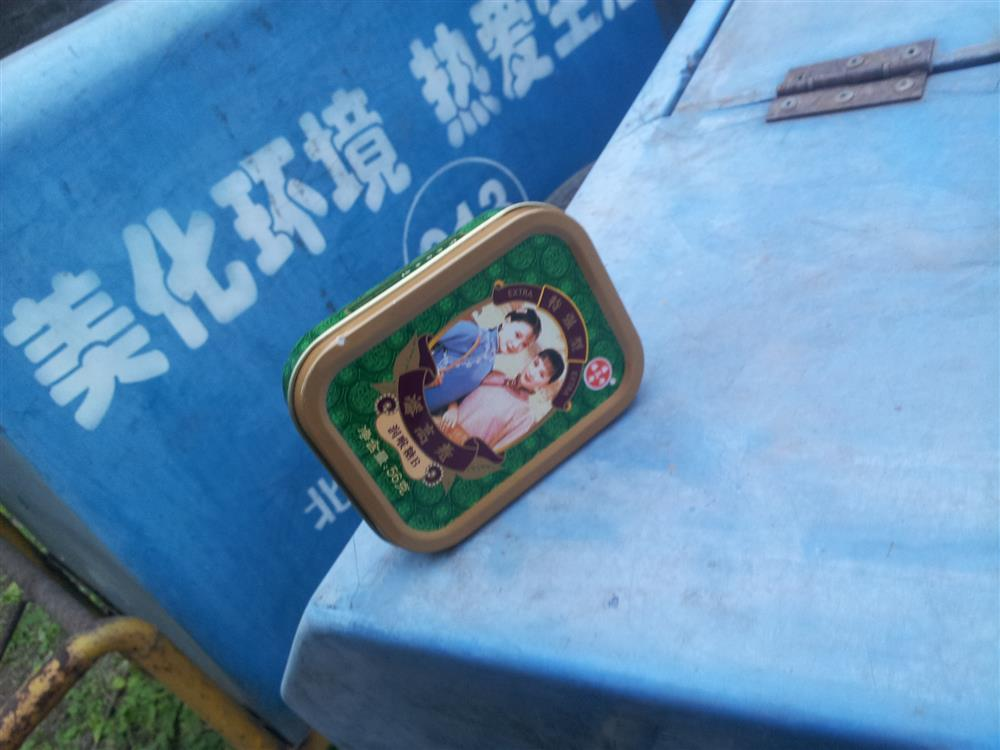pangaoshou: (280, 196, 656, 564)
